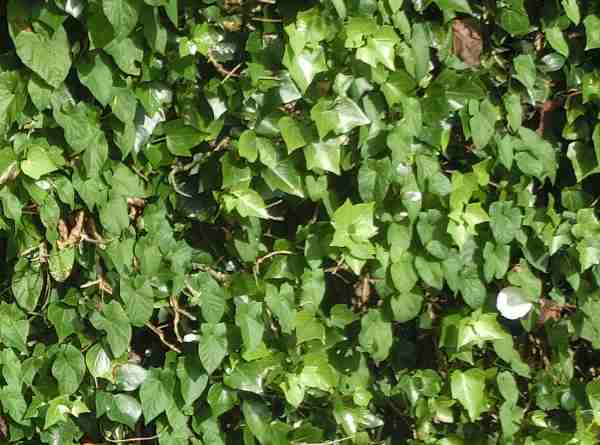haagwinde: (60, 204, 294, 423), (1, 1, 137, 122)
